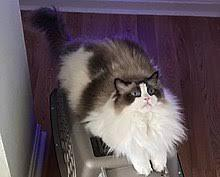ragdoll: (110, 62, 164, 127)
